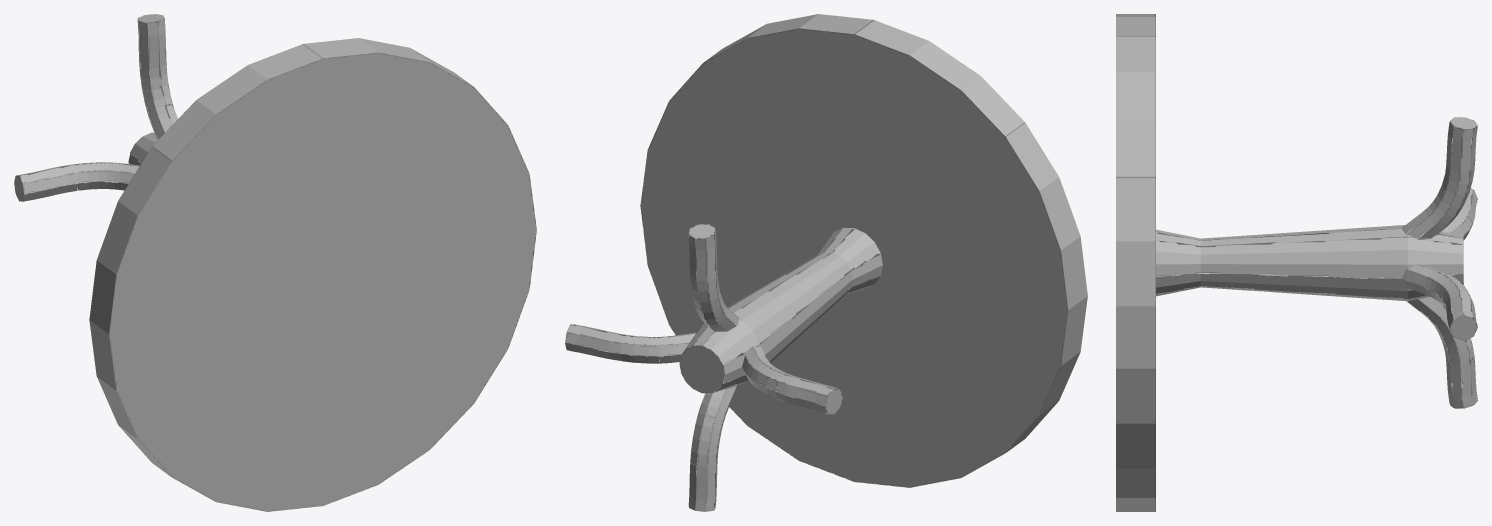
The model's file is pz_table_tables_high_01_dark_round_table.obj.
3 views of the same model, side by side, from view 1: azimuth 30°, elevation 25°; view 2: azimuth 150°, elevation 25°; view 3: azimuth 270°, elevation 25° (orthographic).
Size of the model in its own units: 0.94 by 0.94 by 0.6806.
Materials: 1 (1 with a texture image).
